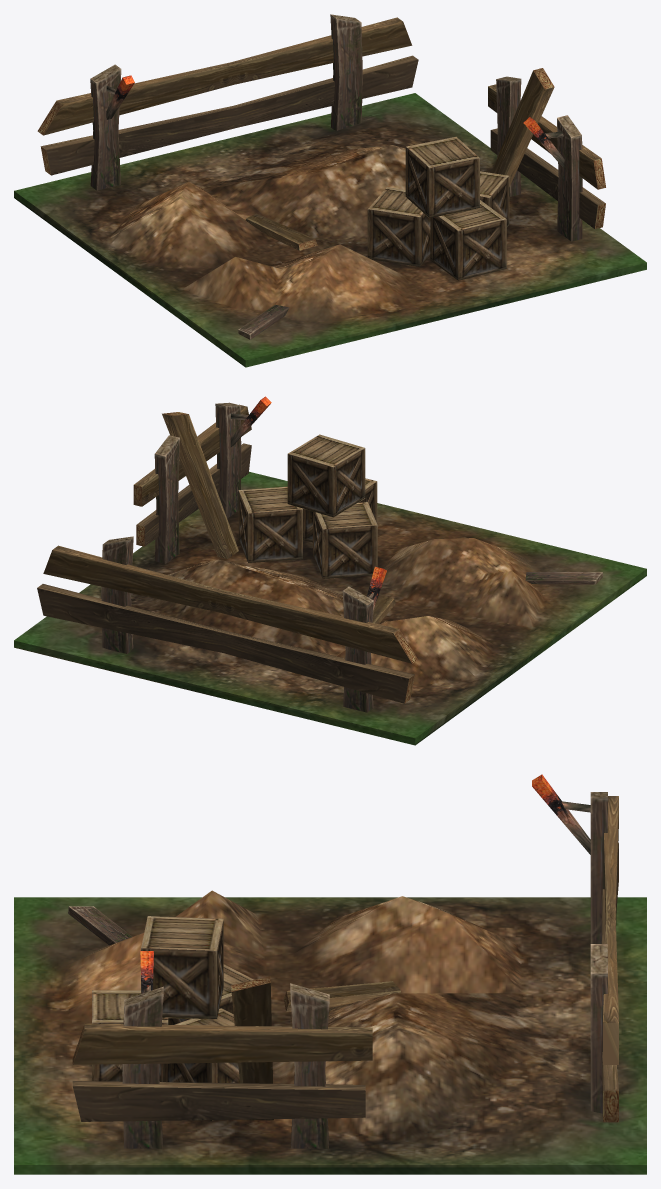
Rendered from Construct.FBX.
3 renders of one model, top to bottom at view 1: azimuth 30°, elevation 25°; view 2: azimuth 150°, elevation 25°; view 3: azimuth 270°, elevation 25°, orthographic. The views are drawn at different scales.
Parts seen in each view (by area): view 1: Construct; view 2: Construct; view 3: Construct.
Part boxes in pixels (<box>): Construct: <box>14,14,646,367</box>; Construct: <box>14,396,646,745</box>; Construct: <box>14,774,646,1174</box>.
Size of the model in its own units: 500 by 164 by 500.
